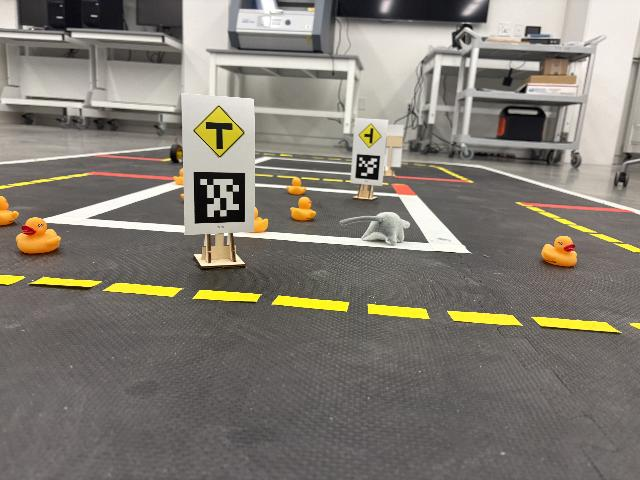duck: (1, 271, 431, 320), (15, 216, 61, 253), (542, 236, 577, 271), (290, 197, 318, 221), (0, 194, 15, 226), (255, 207, 268, 234), (286, 177, 306, 194), (172, 165, 183, 189), (179, 193, 183, 199)
mouse: (339, 209, 410, 247)
redline: (522, 199, 634, 214), (93, 167, 174, 184), (398, 173, 469, 186), (100, 154, 161, 163)
t_intersection: (183, 102, 256, 271)
whiteline: (412, 196, 475, 253), (58, 184, 176, 214), (62, 213, 182, 236), (18, 148, 101, 163), (105, 137, 172, 155), (271, 232, 337, 249), (309, 188, 352, 197), (256, 181, 286, 192), (400, 196, 416, 206)
yellowline: (443, 299, 631, 346), (582, 214, 640, 260), (20, 164, 90, 188), (256, 151, 352, 162), (544, 214, 581, 232), (306, 175, 350, 187), (403, 160, 443, 168), (257, 171, 286, 181)
